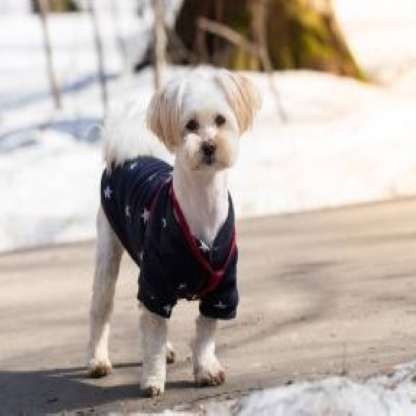maltese: (71, 63, 268, 402)
